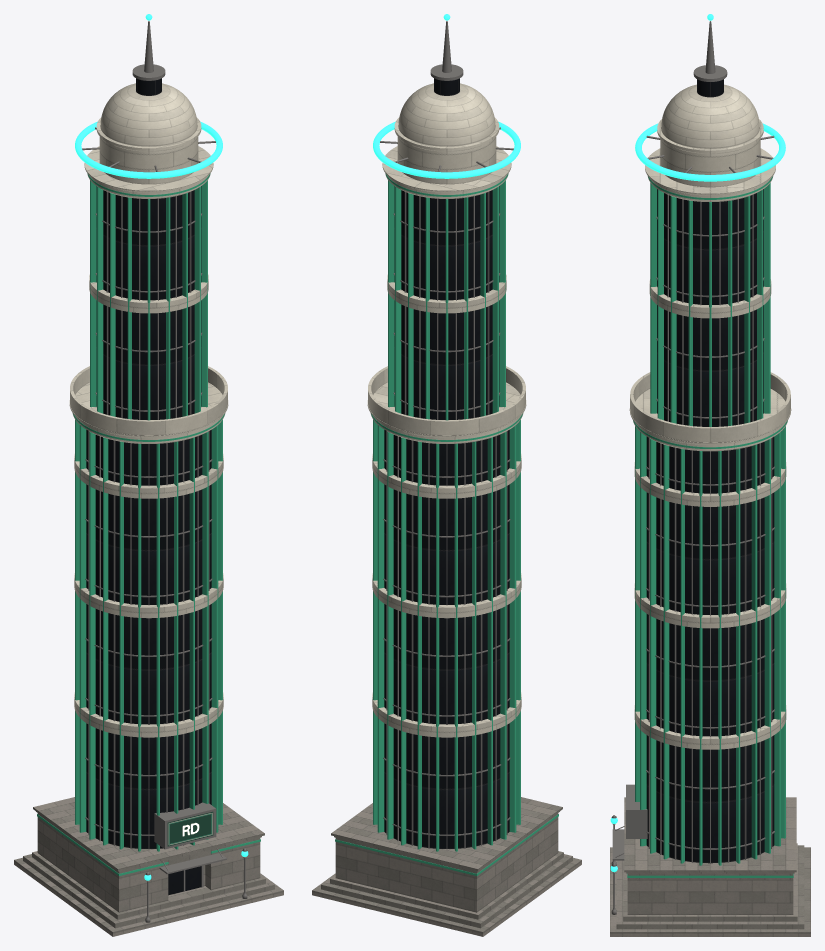
Rendered from robotics-dao.glb.
3 views of the same model, side by side, from view 1: azimuth 30°, elevation 25°; view 2: azimuth 150°, elevation 25°; view 3: azimuth 270°, elevation 25° (orthographic).
Parts seen in each view (by area): view 1: Landmark · Robotics DAO; view 2: Landmark · Robotics DAO; view 3: Landmark · Robotics DAO.
Boxes of the visible parts, x1,y1,x2,y2 form: Landmark · Robotics DAO: (14,14,283,936); Landmark · Robotics DAO: (312,14,581,936); Landmark · Robotics DAO: (610,14,810,936).
Bounding box in the file's own units: 12 × 58 × 12.
Materials: 7 (4 with a texture image).
